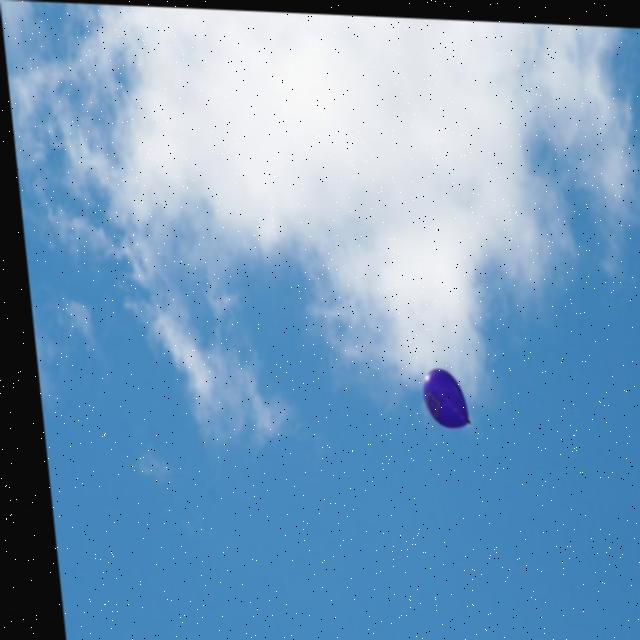balloon: (411, 361, 463, 420)
